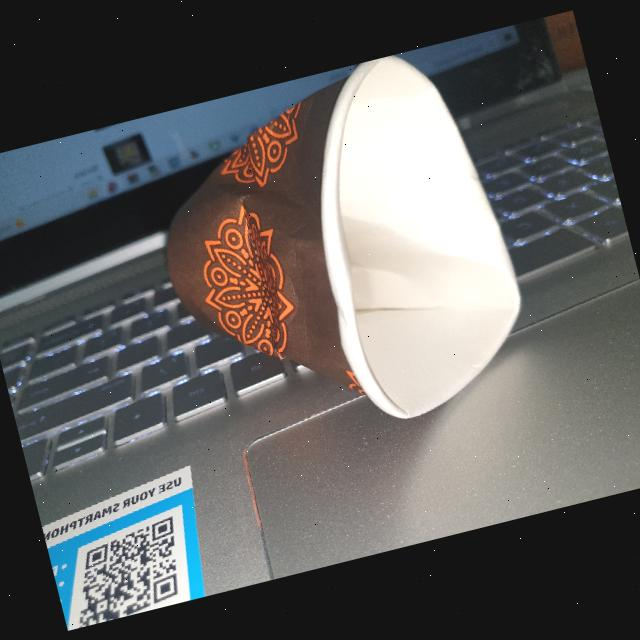trash: (120, 37, 554, 476)
